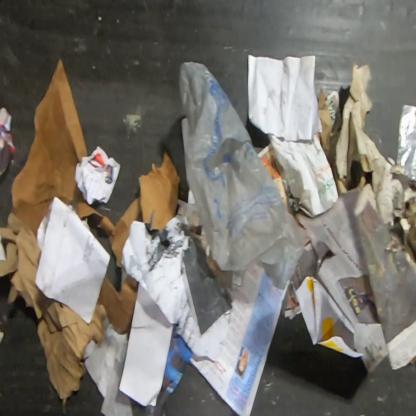cardboard: (317, 62, 415, 256)
soft_plastic: (177, 61, 309, 292), (389, 103, 415, 181)
